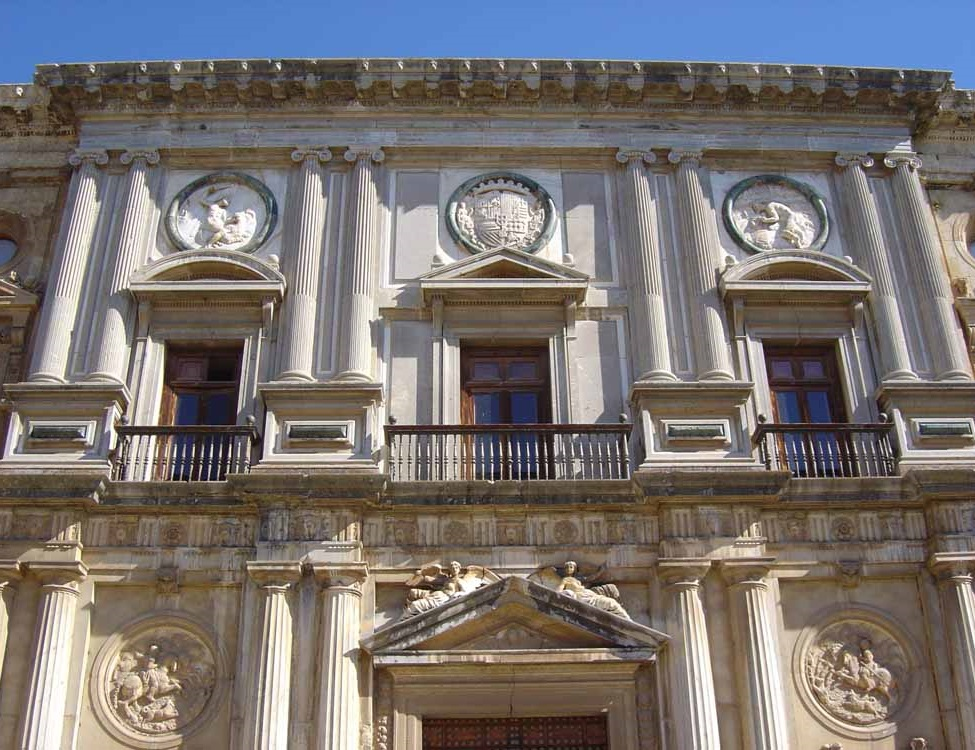fronton: (352, 568, 677, 682), (417, 245, 595, 303)
fronton-curvo: (118, 246, 297, 303), (717, 248, 878, 302)
vano-adintelado: (436, 314, 570, 484), (744, 319, 886, 477), (130, 325, 264, 483)
